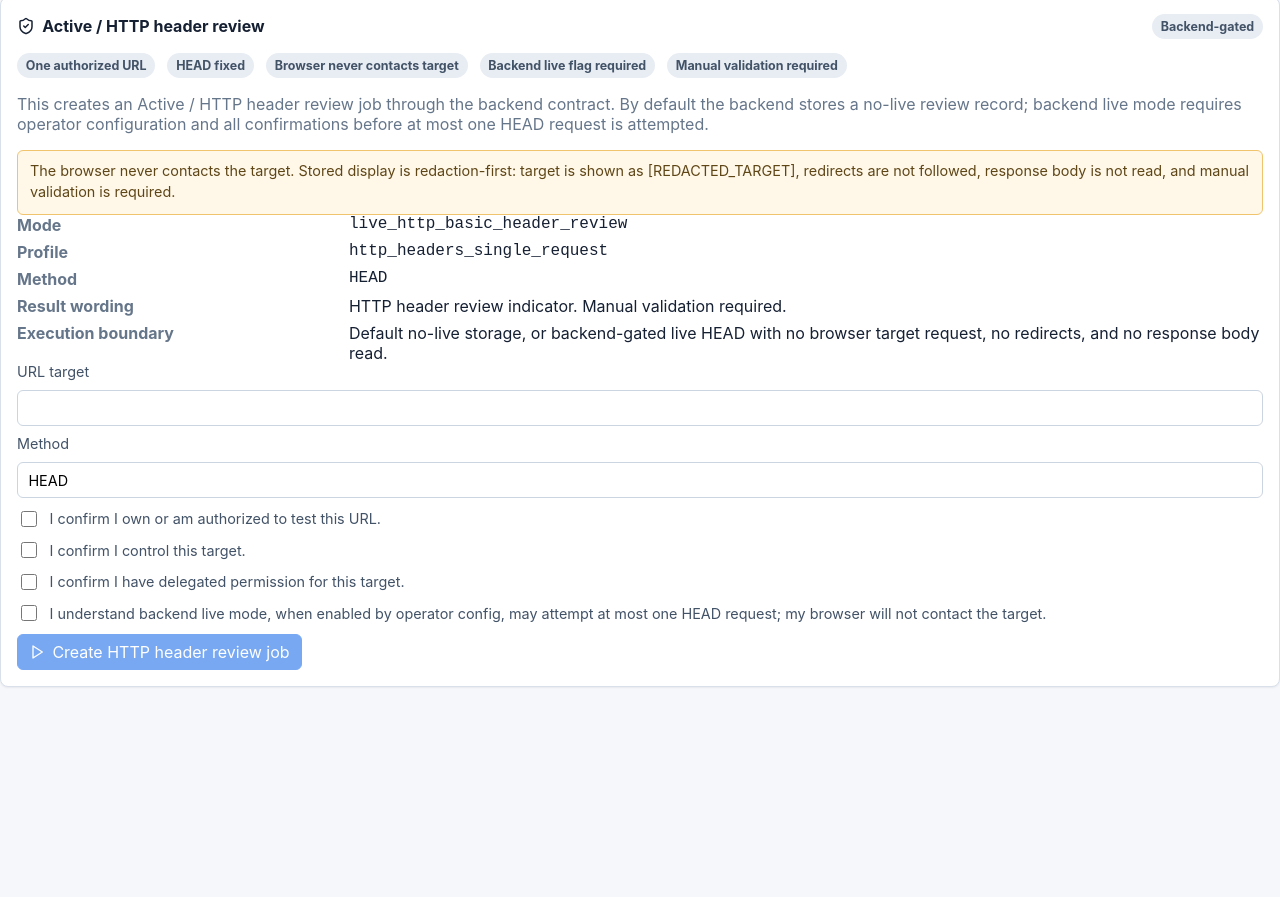
ActiveHttpBasicHeaderReviewPanel › accepts a backend live HEAD result without adding browser-side target transport
The width and height of the screenshot is (1280, 897).
Type "https://authorized.example/" into the field labelled "URL target" at (640, 408), box [17,390,1263,426]
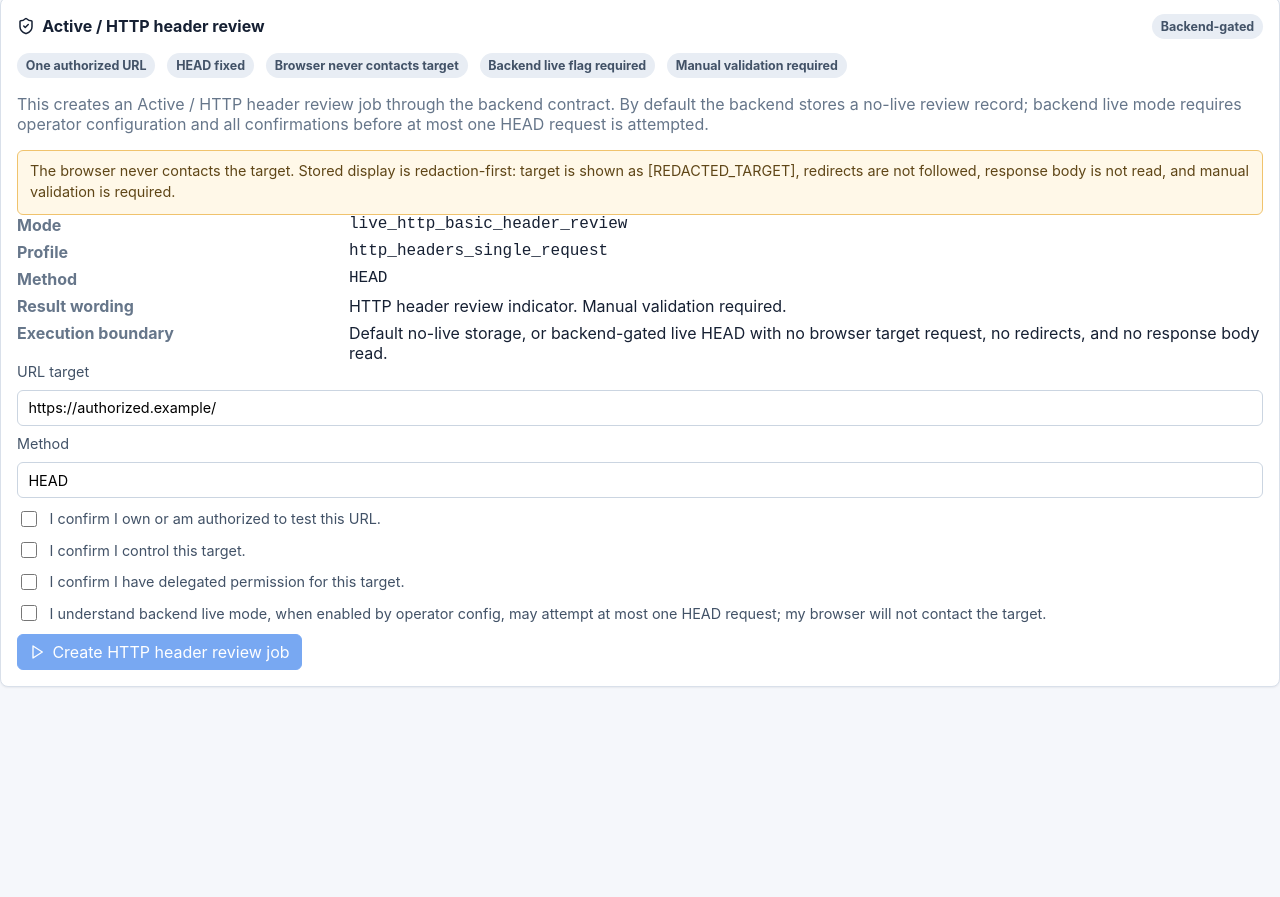
Click the checkbox labelled "I confirm I own or am authorized to test this URL." at (29, 519), box [21,511,37,527]
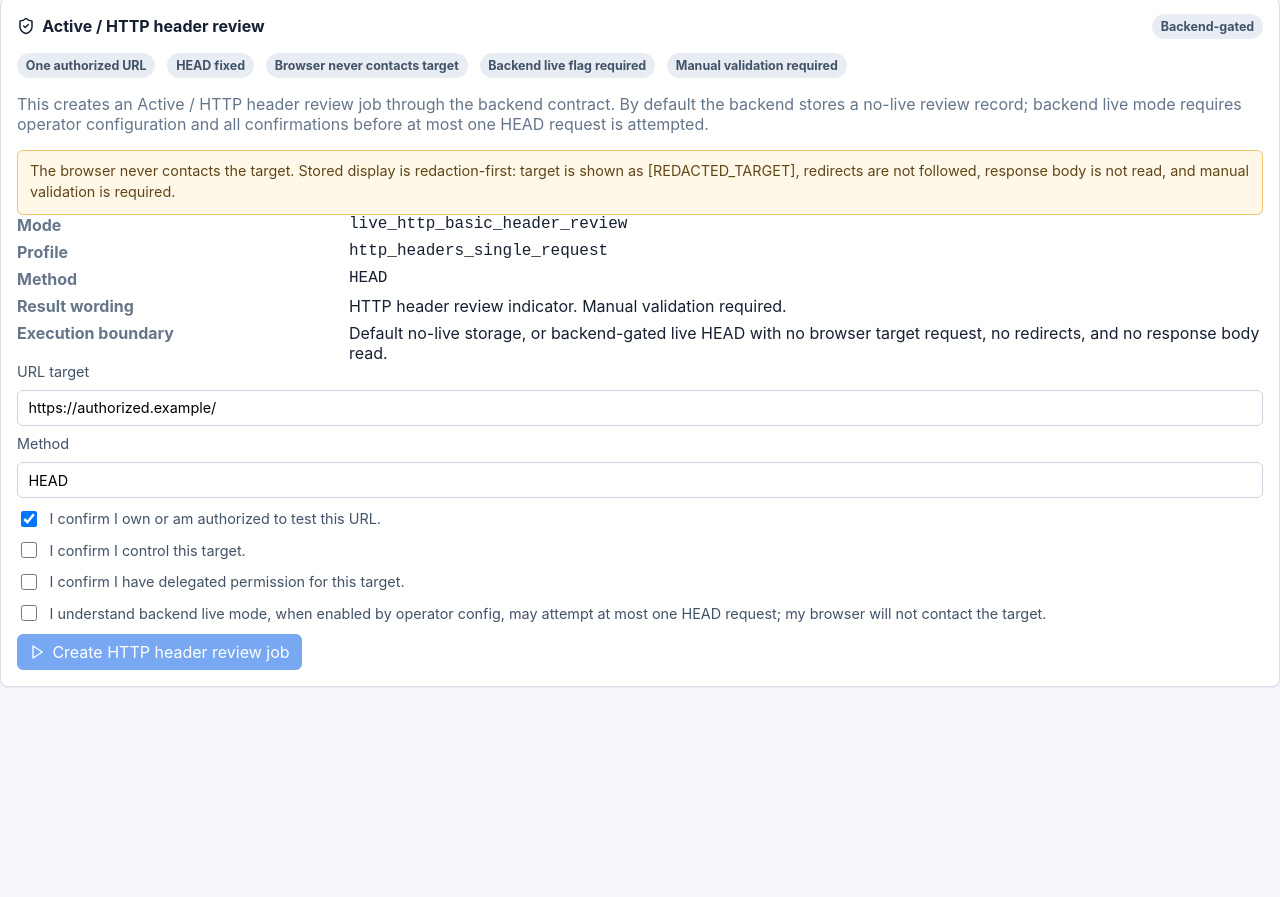
Click the checkbox labelled "I confirm I control this target." at (29, 550), box [21,542,37,558]
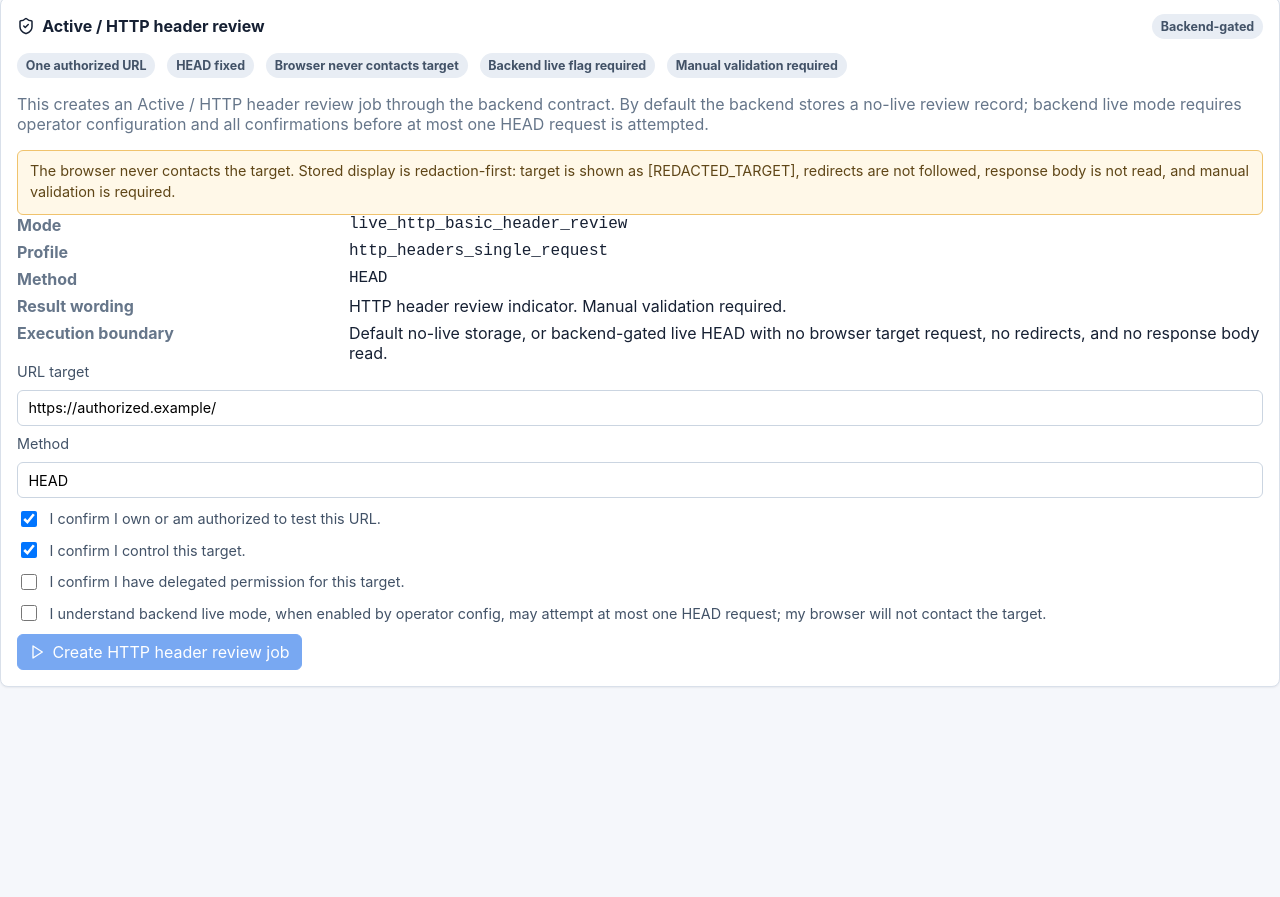
Click the checkbox named "I understand backend live mode, when enabled by operator config, may attempt at most one HEAD request; my browser will n" at (29, 613), box [21,605,37,621]
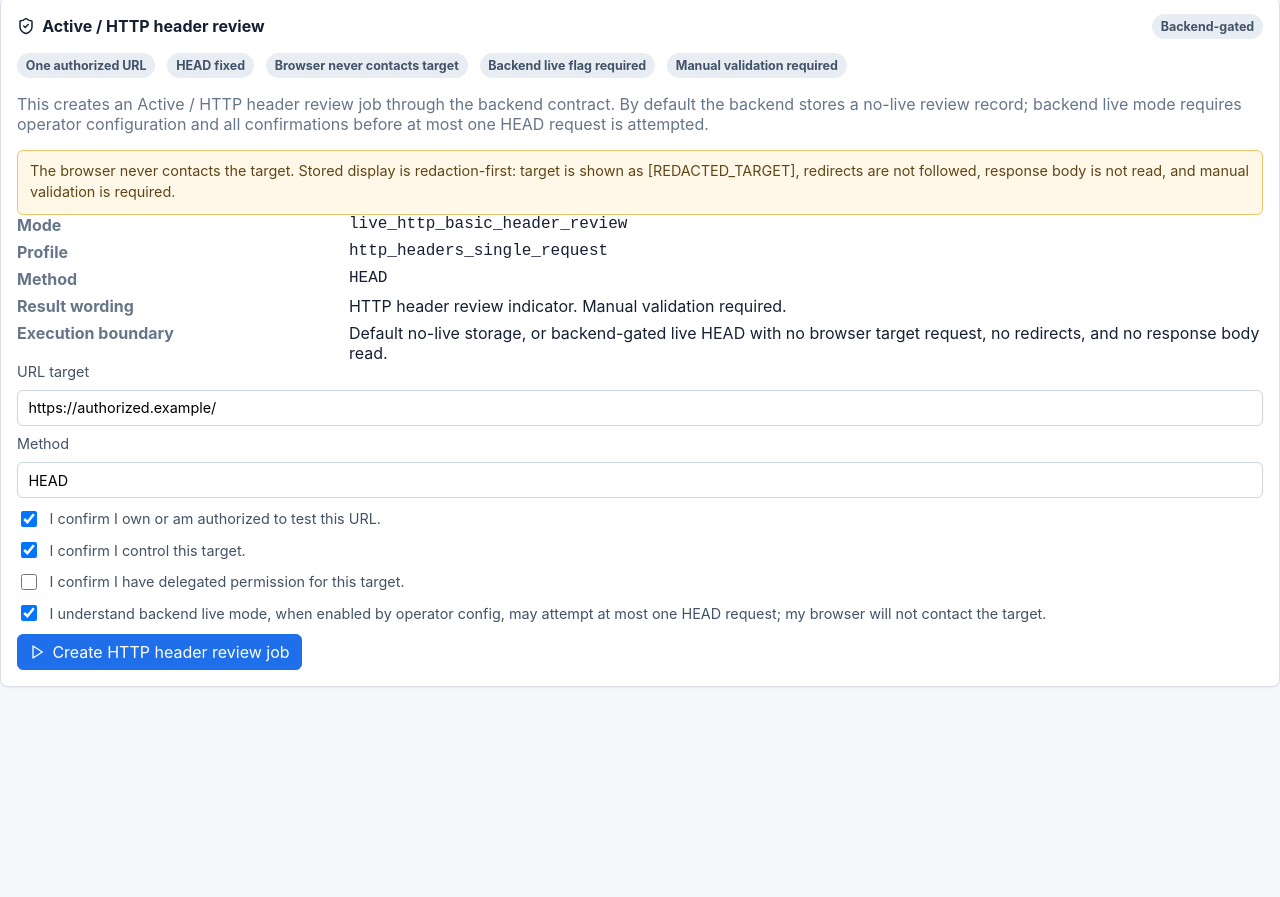
Click the button "Create HTTP header review job" at (159, 652), box [17,634,302,670]
(page scrolled)
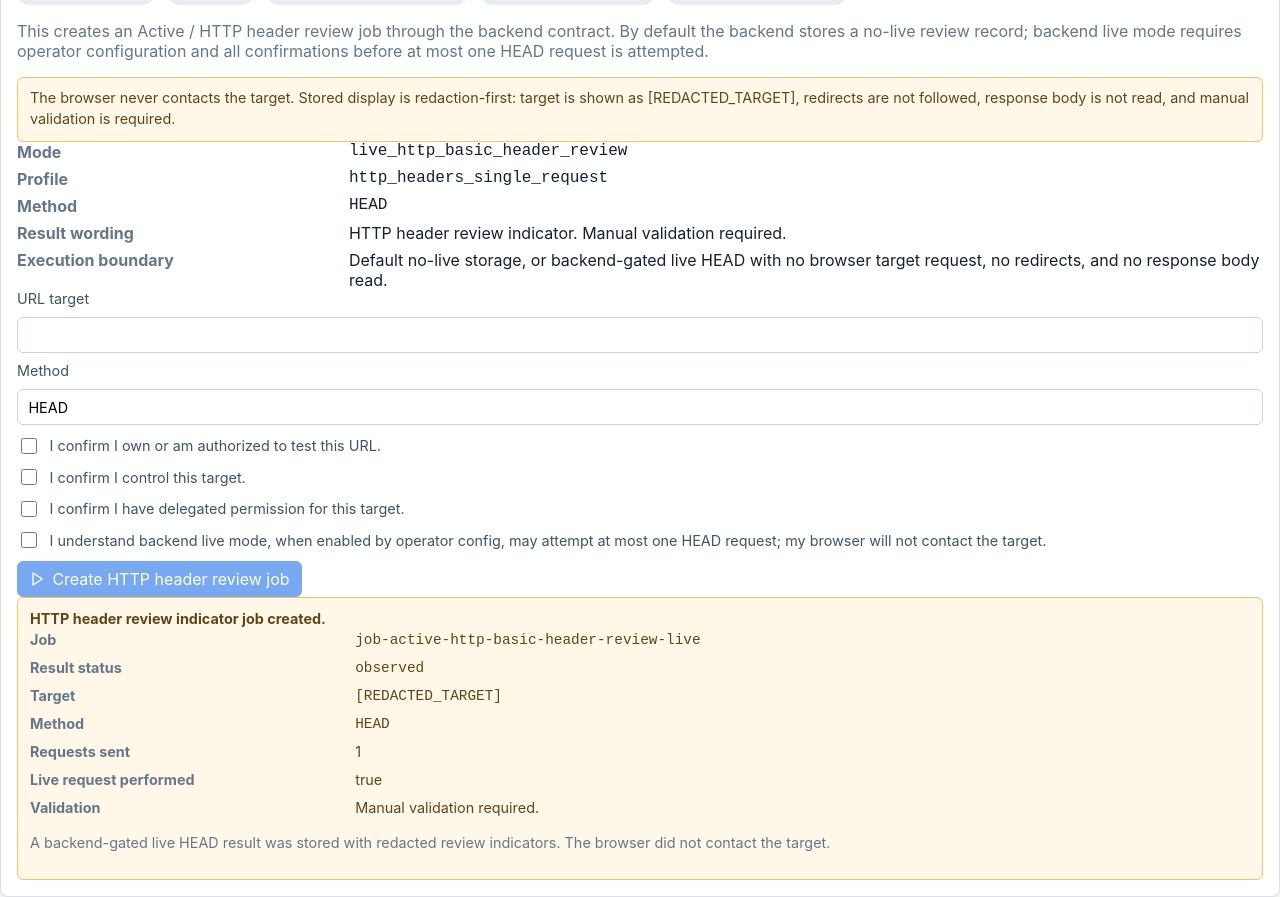
Result: the text "HTTP header review indicator job created." is shown at [30,610,326,627]
Result: the text "observed" is shown at [355,660,424,676]
Result: the text "1" is shown at [355,743,361,760]
